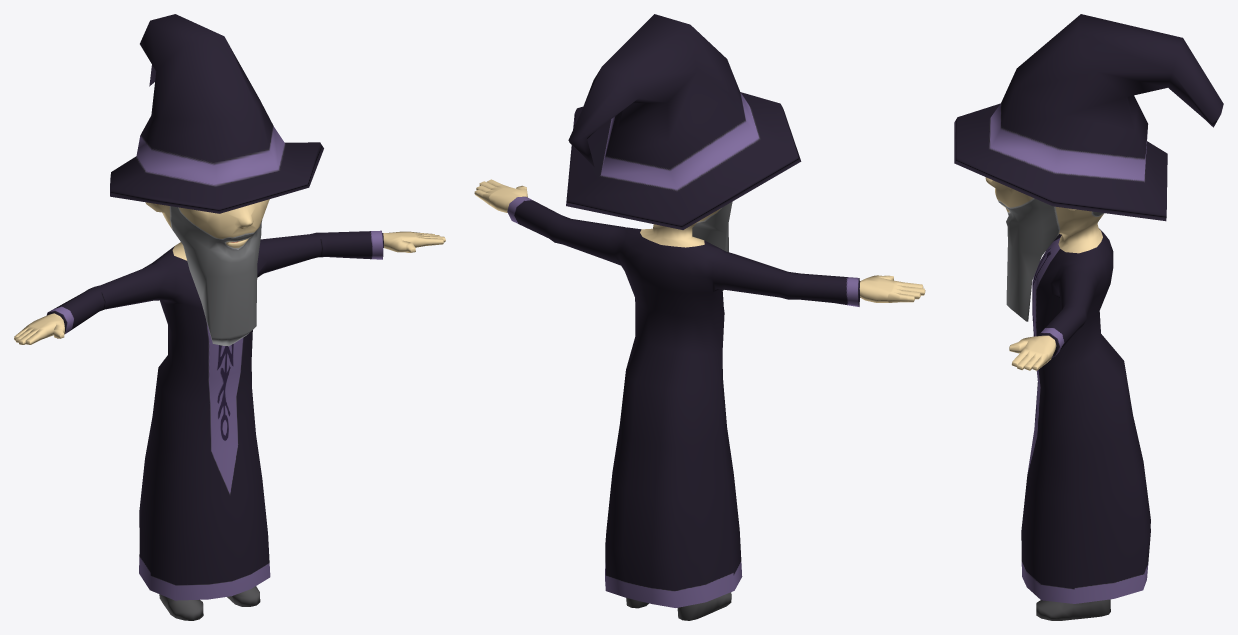
File: Mage.fbx
3 renders of one model, left to right at view 1: azimuth 30°, elevation 25°; view 2: azimuth 150°, elevation 25°; view 3: azimuth 270°, elevation 25°, orthographic. The views are drawn at different scales.
Visible parts, largest first — view 1: Mage; view 2: Mage; view 3: Mage.
Boxes of the visible parts, x1,y1,x2,y2 form: Mage: (14,14,445,620); Mage: (474,14,925,620); Mage: (954,14,1223,620).
Bounding box in the file's own units: 2.37 × 1.26 × 2.96.
1 material, 1 textured.
